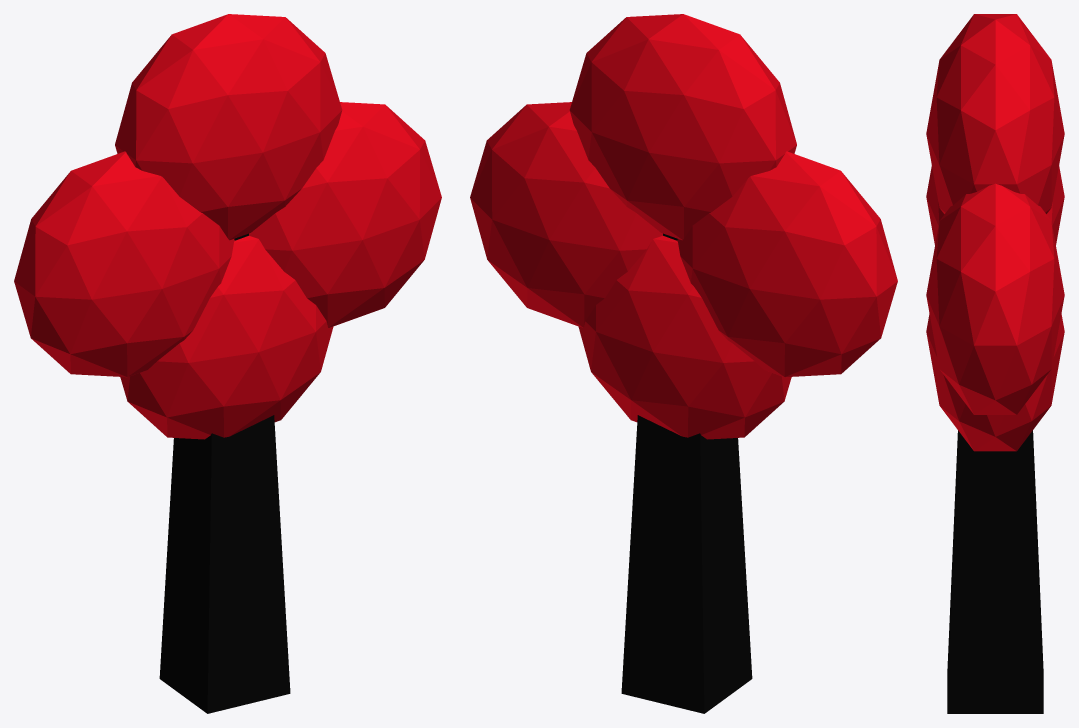
The model's file is Буф.fbx.
The picture shows the model from 3 angles, left to right: view 1: azimuth 30°, elevation 25°; view 2: azimuth 150°, elevation 25°; view 3: azimuth 270°, elevation 25°; orthographic projection.
Visible parts, largest first — view 1: Icosphere.002, Icosphere.001, Cube, Icosphere, Icosphere.003; view 2: Icosphere.002, Icosphere.001, Cube, Icosphere, Icosphere.003; view 3: Icosphere, Cube, Icosphere.002, Icosphere.003, Icosphere.001.
Part boxes in pixels (box(x1,y1,x2,y2)): Icosphere.002: box(115, 14, 342, 240); Icosphere.001: box(14, 151, 234, 377); Cube: box(159, 233, 290, 713); Icosphere: box(249, 102, 441, 327); Icosphere.003: box(120, 236, 333, 439); Icosphere.002: box(569, 14, 796, 240); Icosphere.001: box(677, 151, 897, 377); Cube: box(621, 233, 752, 713); Icosphere: box(470, 102, 662, 327); Icosphere.003: box(578, 236, 791, 439); Icosphere: box(926, 183, 1064, 414); Cube: box(947, 430, 1043, 713); Icosphere.002: box(926, 14, 1064, 213); Icosphere.003: box(926, 313, 1064, 451); Icosphere.001: box(926, 165, 1064, 244).
Size of the model in its own units: 178 by 280 by 52.09.
